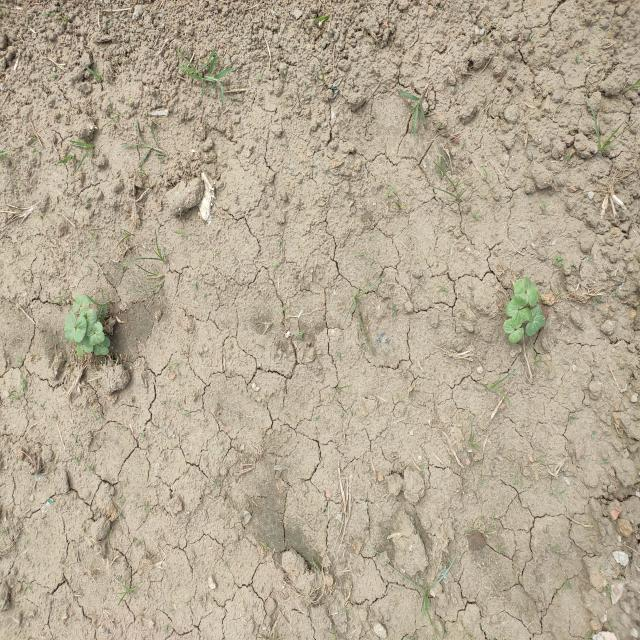seedling_s2: (506, 293, 528, 317), (525, 315, 546, 336), (524, 276, 538, 307), (80, 308, 97, 332), (64, 312, 76, 342), (74, 317, 87, 342), (512, 308, 531, 325), (503, 318, 522, 334), (508, 327, 524, 344), (86, 322, 103, 337), (88, 331, 105, 345), (528, 307, 542, 322), (79, 295, 90, 314), (81, 336, 93, 352), (514, 280, 526, 295), (96, 337, 110, 348), (93, 346, 109, 355), (73, 296, 81, 312), (75, 341, 83, 356)
